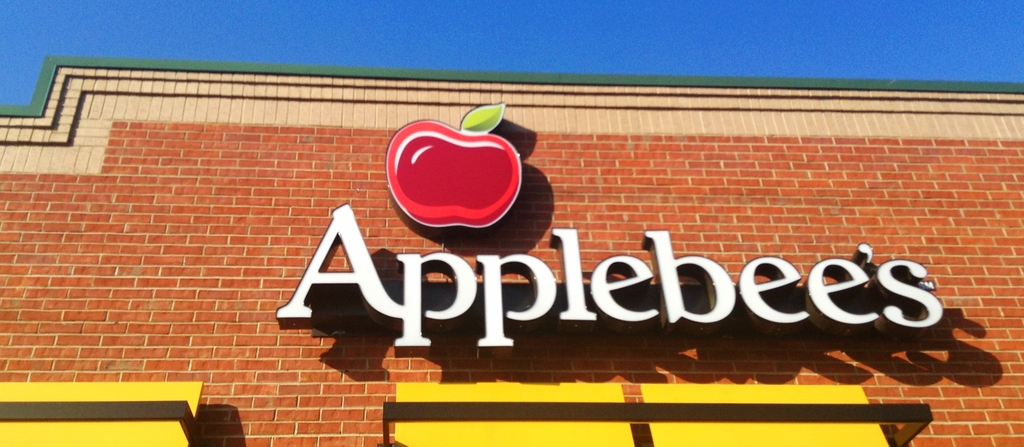Apple: (384, 99, 520, 229)
